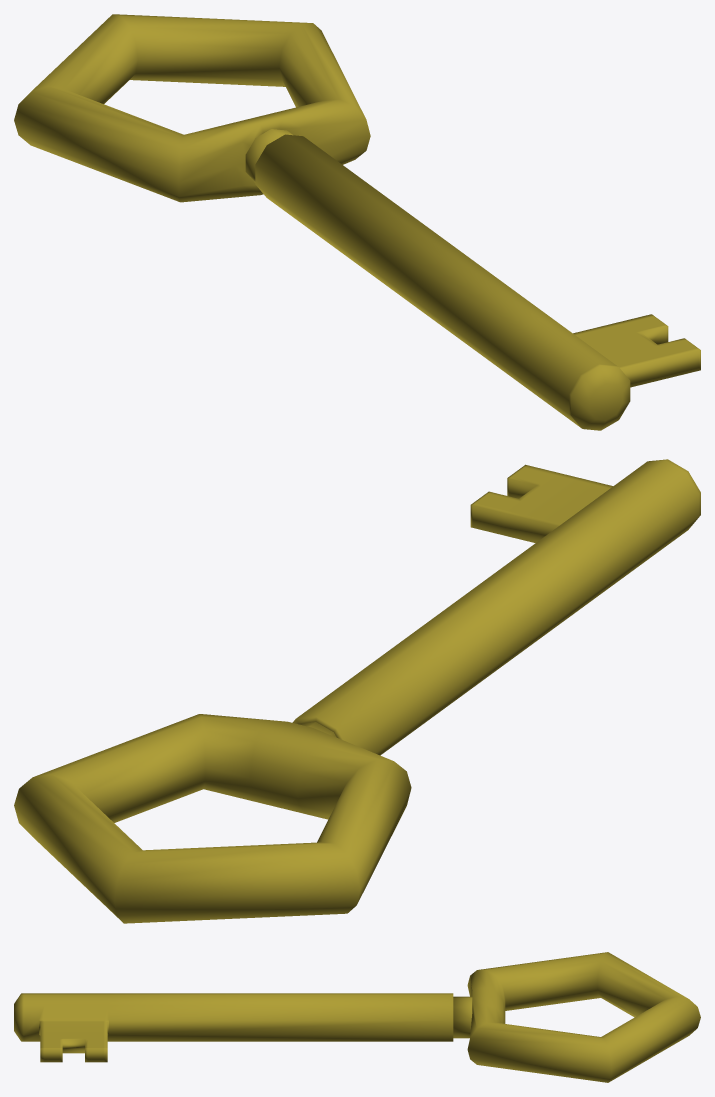
File: key.glb
3 views of the same model, one above another, from view 1: azimuth 30°, elevation 25°; view 2: azimuth 150°, elevation 25°; view 3: azimuth 270°, elevation 25° (orthographic). The views are drawn at different scales.
Visible parts, largest first — view 1: Cylinder; view 2: Cylinder; view 3: Cylinder.
Boxes of the visible parts, left/top/right/bottom form: Cylinder: left=14, top=14, right=700, bottom=430; Cylinder: left=14, top=459, right=700, bottom=923; Cylinder: left=14, top=952, right=700, bottom=1082.
Size of the model in its own units: 2.59 by 0.5677 by 7.25.
